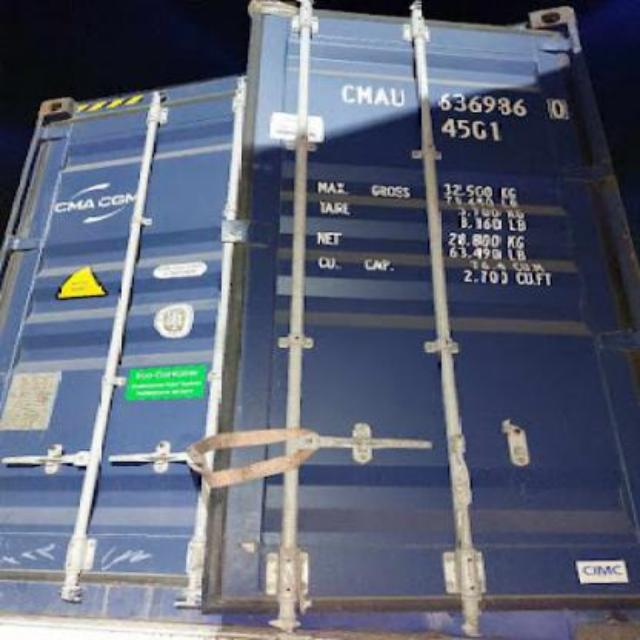0: (546, 97, 568, 121)
3: (453, 92, 467, 114)
6: (512, 98, 530, 119), (438, 92, 452, 112), (468, 95, 482, 114)
8: (496, 97, 512, 117)
9: (482, 95, 496, 115)
A: (374, 85, 390, 108)
C: (342, 84, 356, 106)
M: (358, 84, 374, 106)
U: (390, 87, 406, 107)
